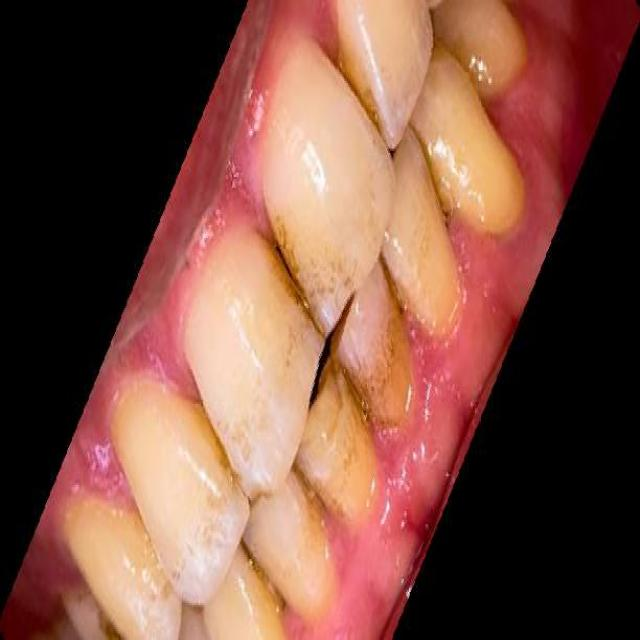caries: (304, 345, 349, 458)
